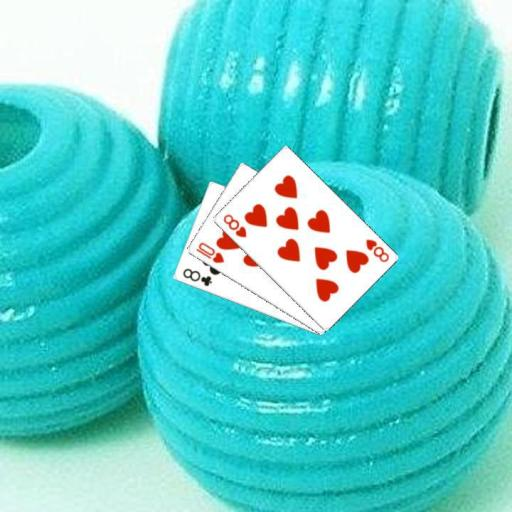10H: (193, 239, 225, 264)
8C: (180, 265, 214, 288)
8H: (220, 211, 247, 239), (363, 236, 390, 264)
